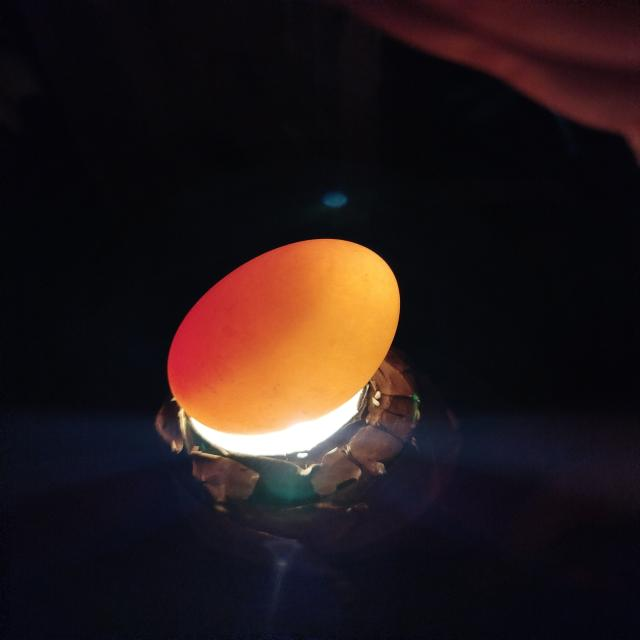Gema Quebrada: (168, 239, 334, 397)
